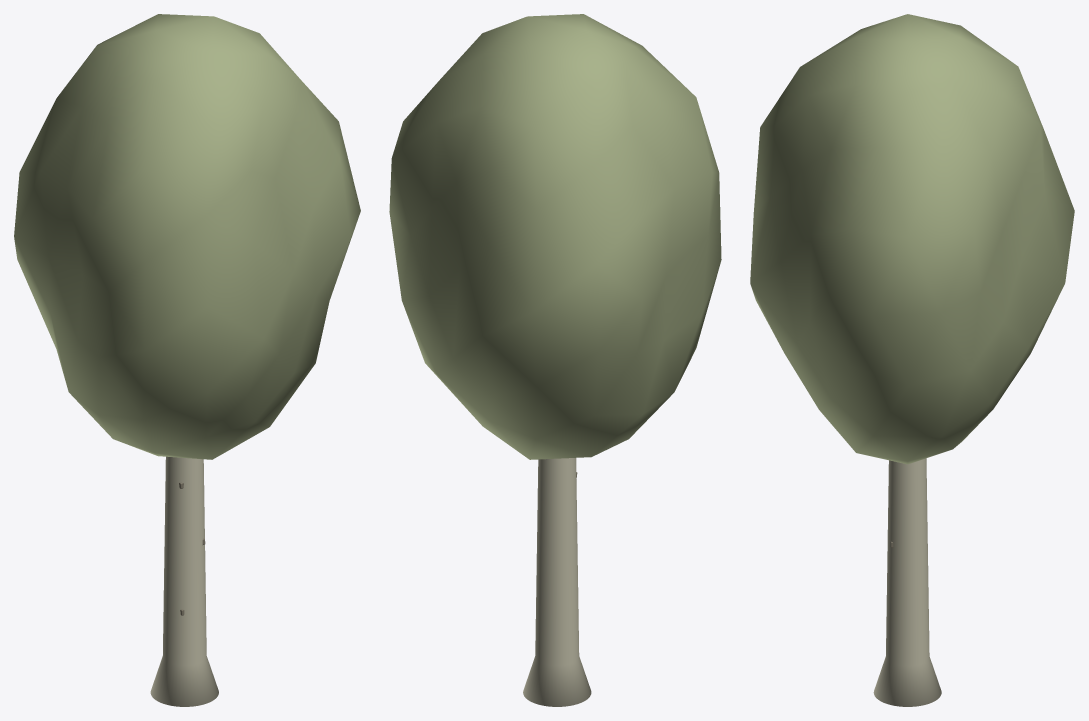
Rendered from birch.glb.
3 views of the same model, side by side, from view 1: azimuth 30°, elevation 25°; view 2: azimuth 150°, elevation 25°; view 3: azimuth 270°, elevation 25° (orthographic).
Parts seen in each view (by area): view 1: birch-continuous-crown, birch-rooted-trunk; view 2: birch-continuous-crown, birch-rooted-trunk; view 3: birch-continuous-crown, birch-rooted-trunk.
Boxes of the visible parts, box(x1,y1,x2,y2) form: birch-continuous-crown: box(14, 14, 360, 459); birch-rooted-trunk: box(150, 456, 218, 706); birch-continuous-crown: box(389, 14, 721, 459); birch-rooted-trunk: box(523, 458, 591, 706); birch-continuous-crown: box(750, 14, 1074, 464); birch-rooted-trunk: box(873, 458, 941, 706).
Size of the model in its own units: 1.19 by 2.65 by 1.17.
